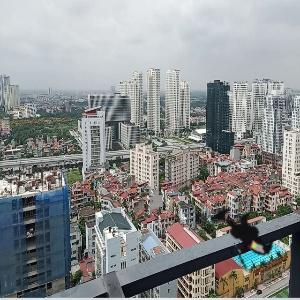drone: (184, 183, 295, 294)
